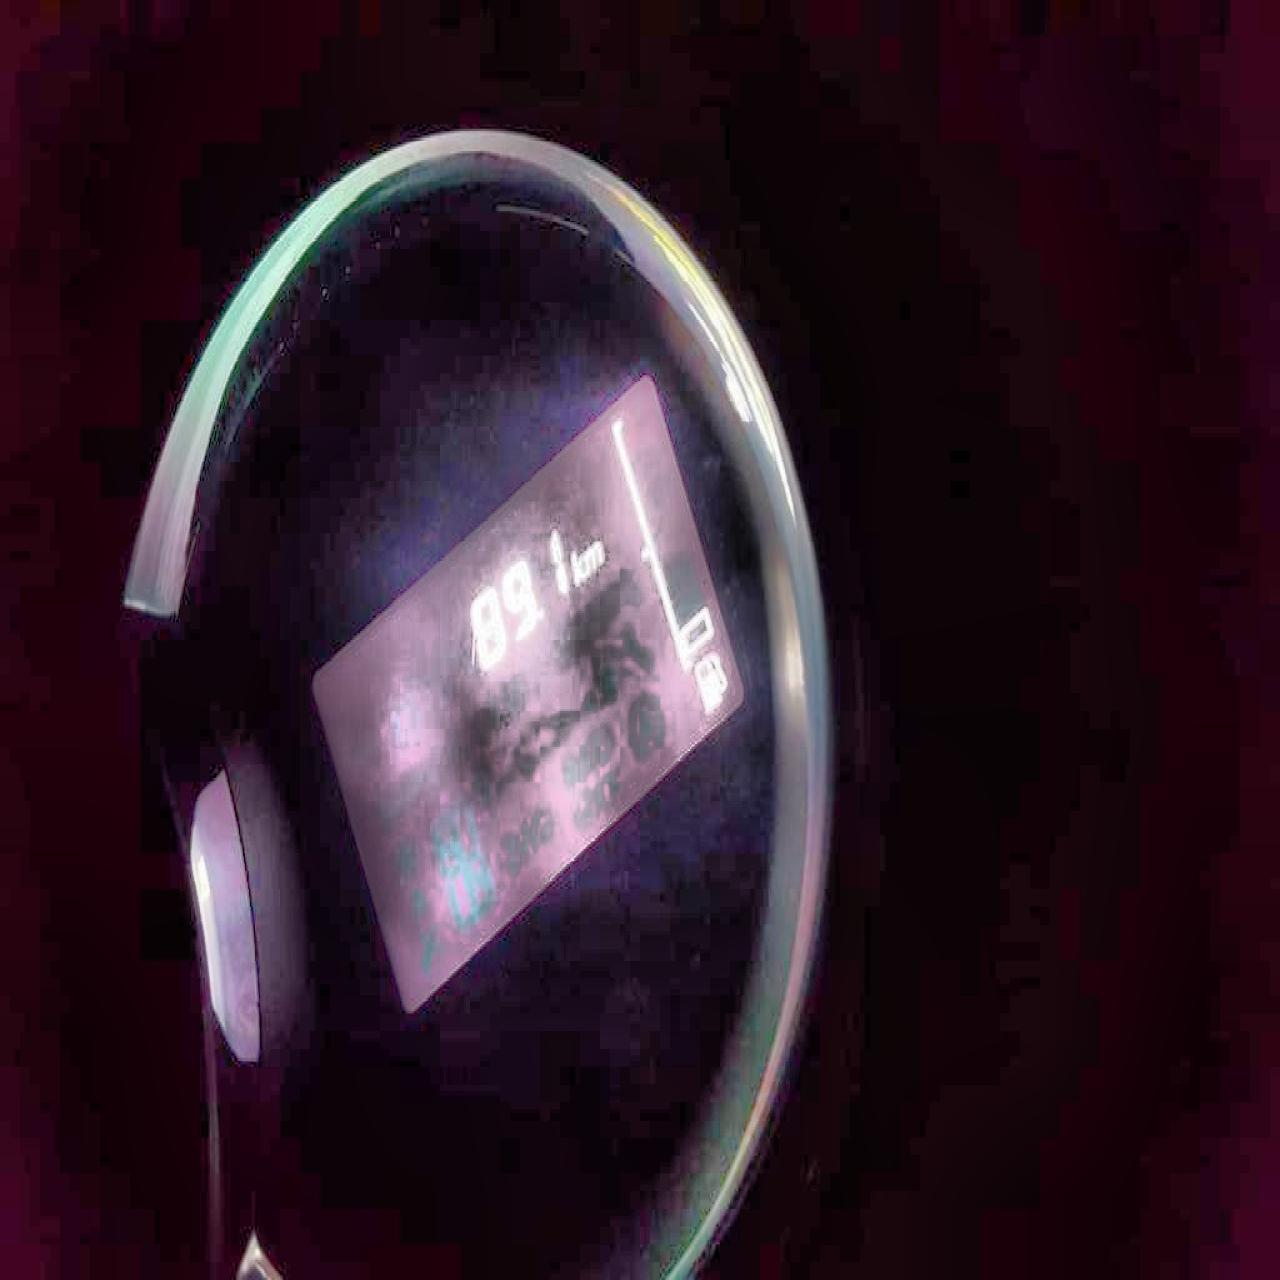-: (537, 595, 547, 628)
1: (545, 522, 568, 600)
8: (467, 583, 506, 675)
9: (498, 553, 538, 642)
X: (570, 546, 587, 586), (584, 538, 604, 571)
odometer: (305, 372, 745, 1024)
